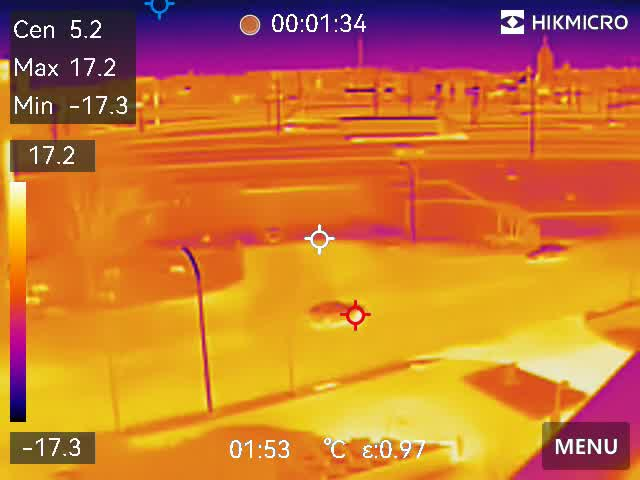heavyTruck: (337, 111, 472, 145)
smallCar: (302, 297, 368, 324), (522, 242, 579, 262)
